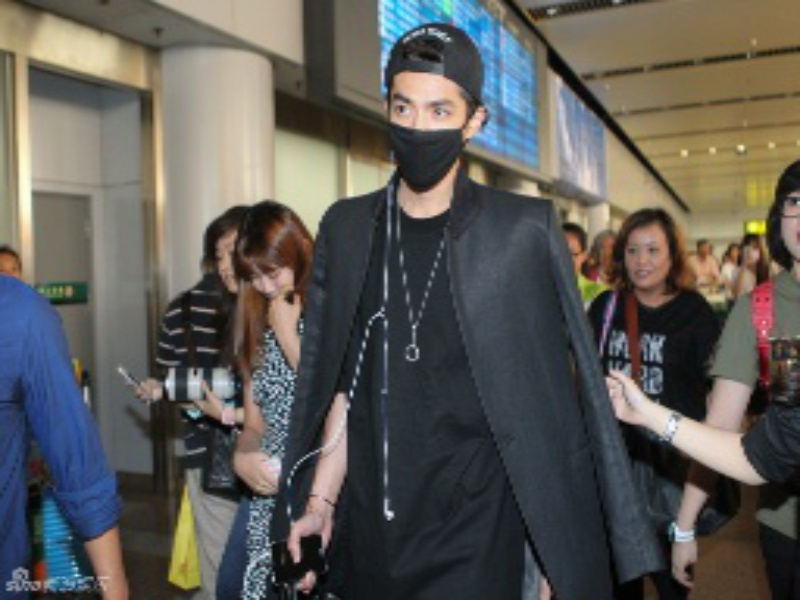ManaoArotava: (370, 10, 500, 217)
